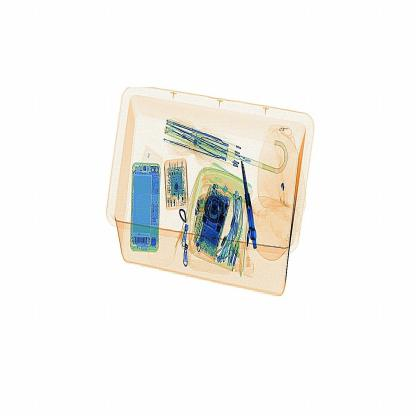gun: (233, 146, 266, 258)
